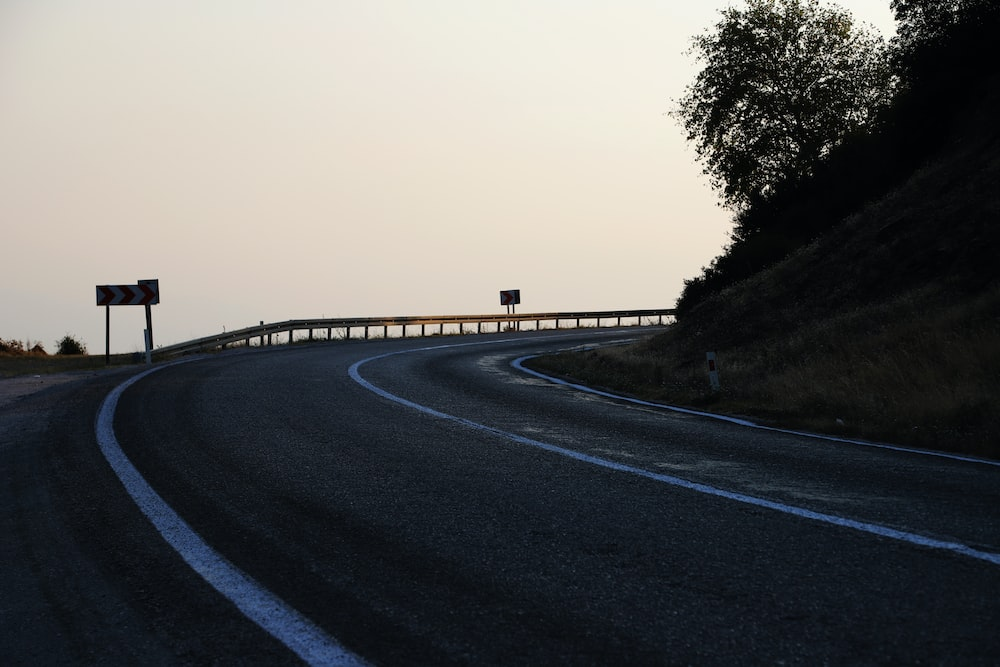rightTrun: (282, 323, 543, 523)
